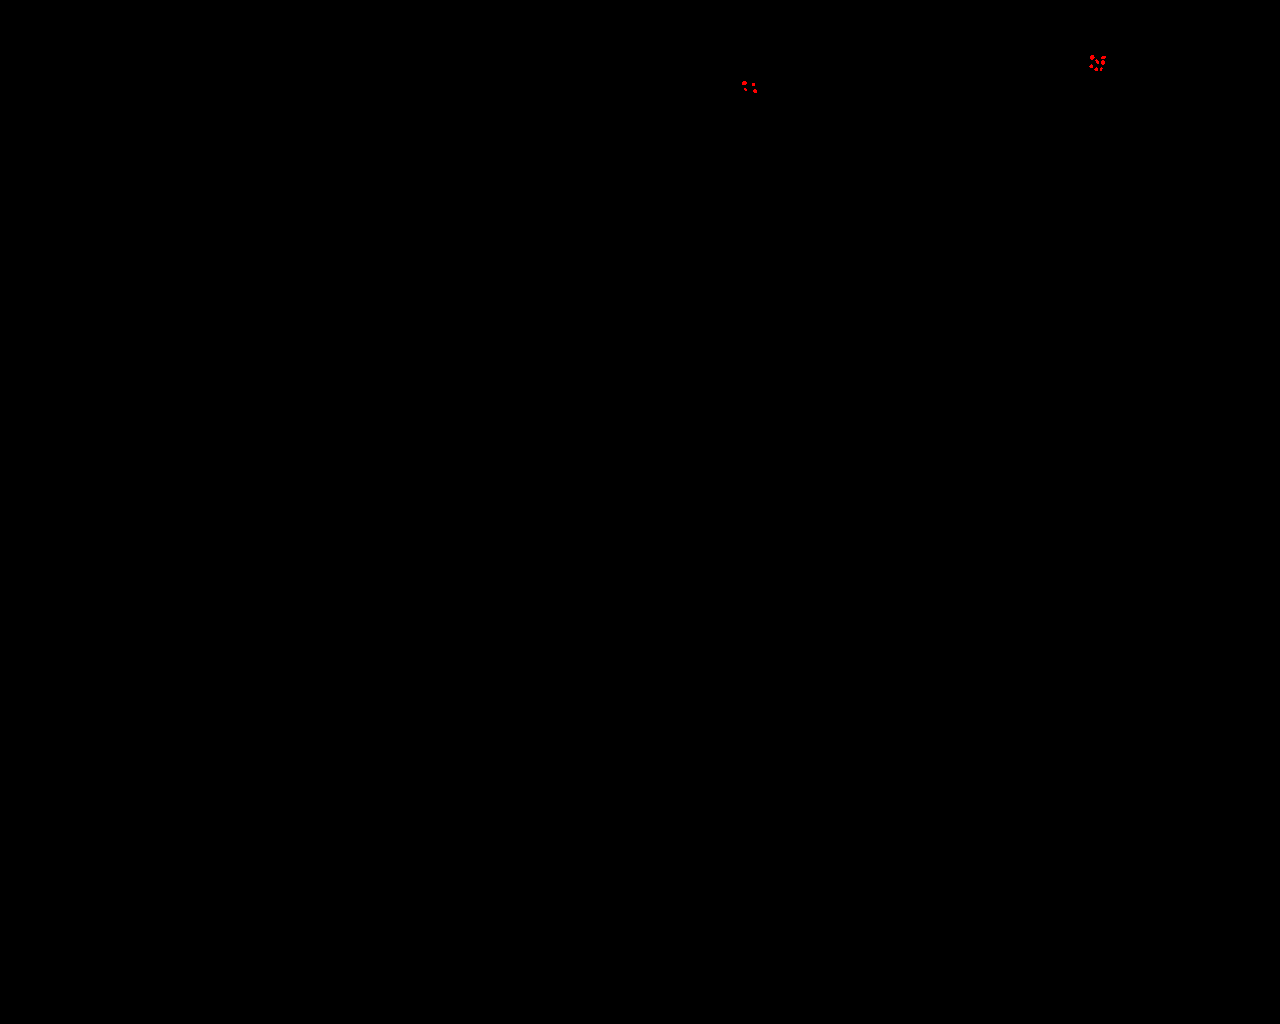Target: (1090, 55, 1095, 60), (1095, 59, 1099, 64), (1101, 60, 1106, 65), (1089, 64, 1093, 68), (1094, 67, 1098, 71), (742, 82, 747, 85), (1100, 67, 1103, 71), (753, 89, 757, 93), (752, 83, 755, 86), (744, 88, 747, 91), (1101, 56, 1106, 59)
